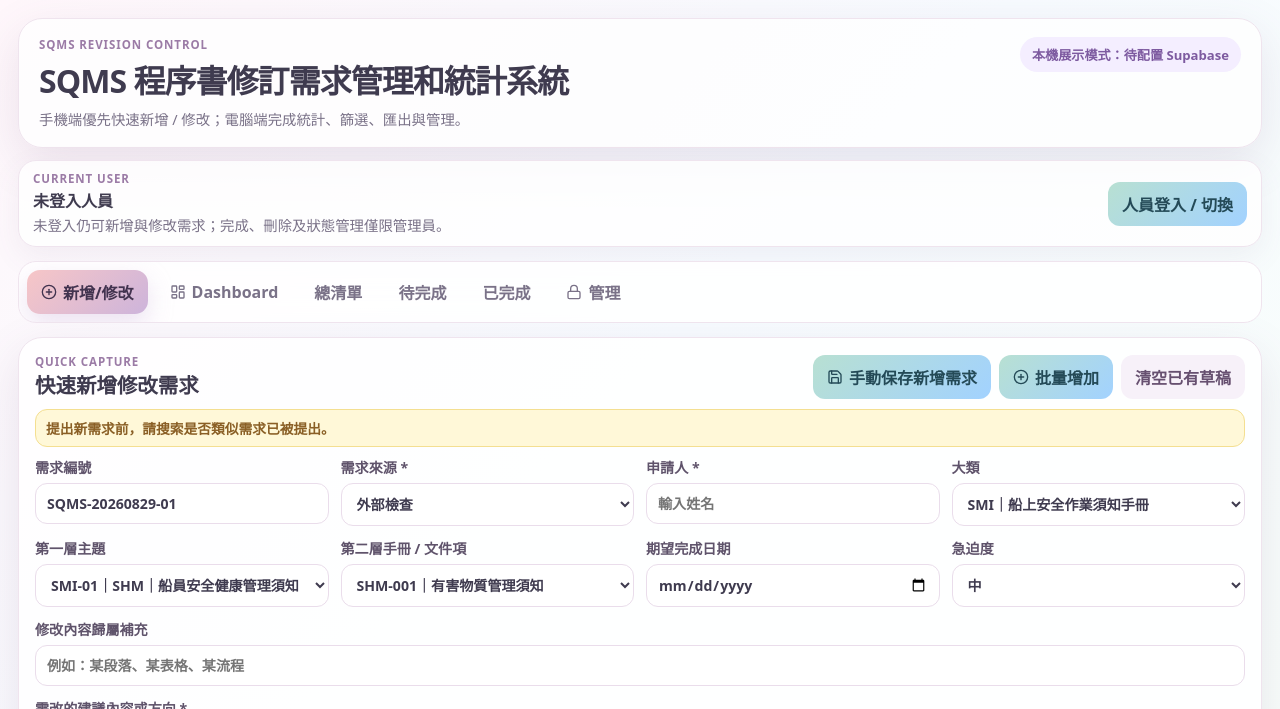
it: request manual save flow › shows matching manual-save buttons above and below the form and saves from the upper button
The width and height of the screenshot is (1280, 709).
In the field labelled "申請人 *": (793, 504) [646, 483, 940, 524], type "測試人員"
(page scrolled)
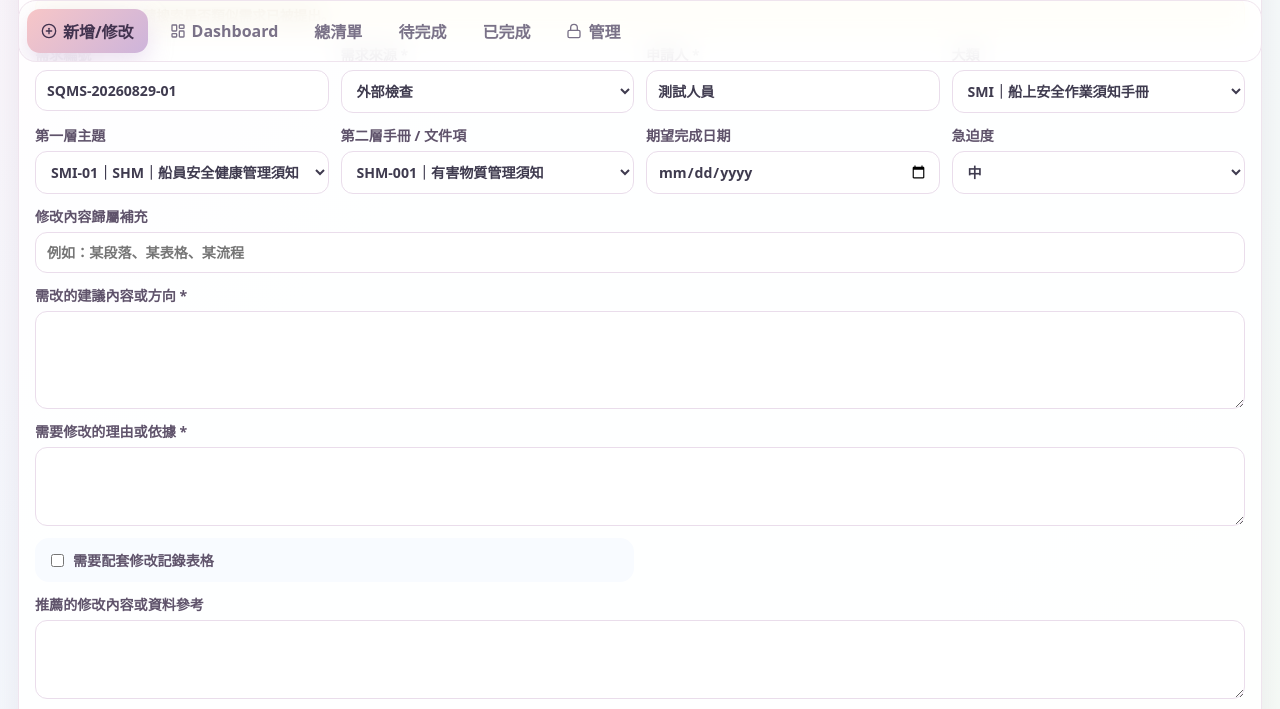
In the text box labelled "需改的建議內容或方向 *": (640, 360) [35, 311, 1245, 409], type "測試手動保存"
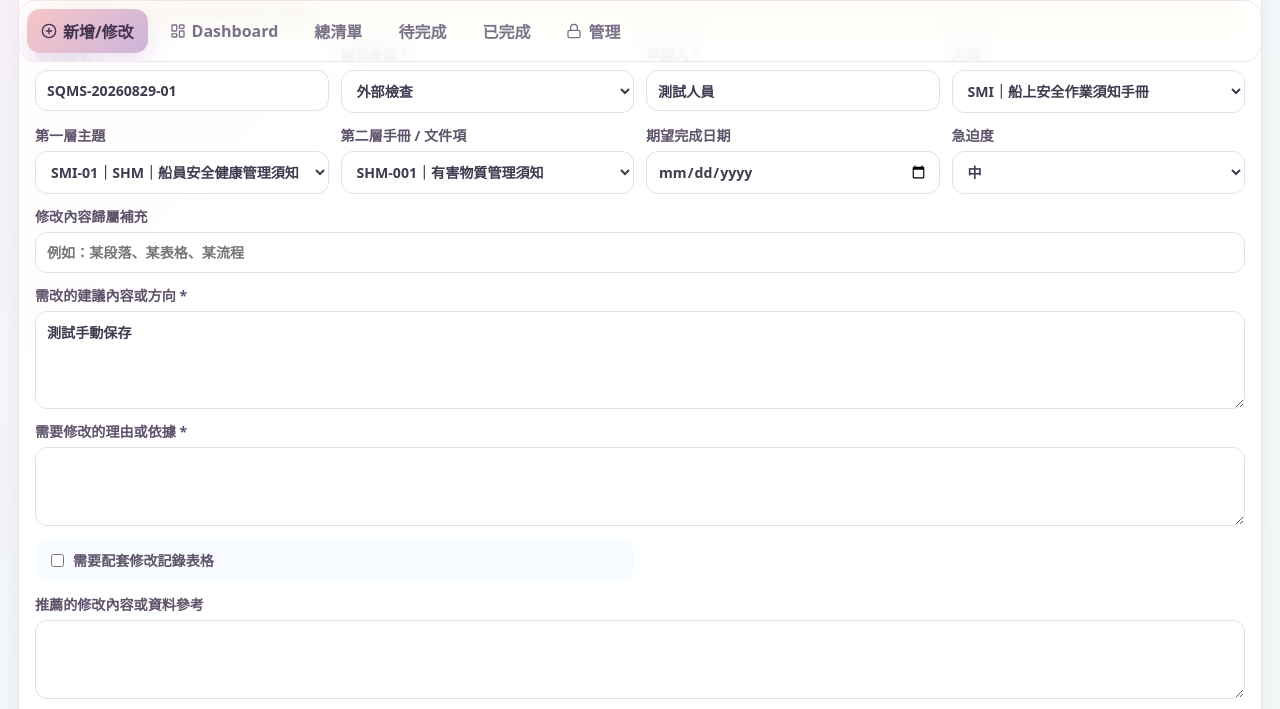
In the text box labelled "需要修改的理由或依據 *": (640, 486) [35, 447, 1245, 526], type "確認保存提示"
(page scrolled)
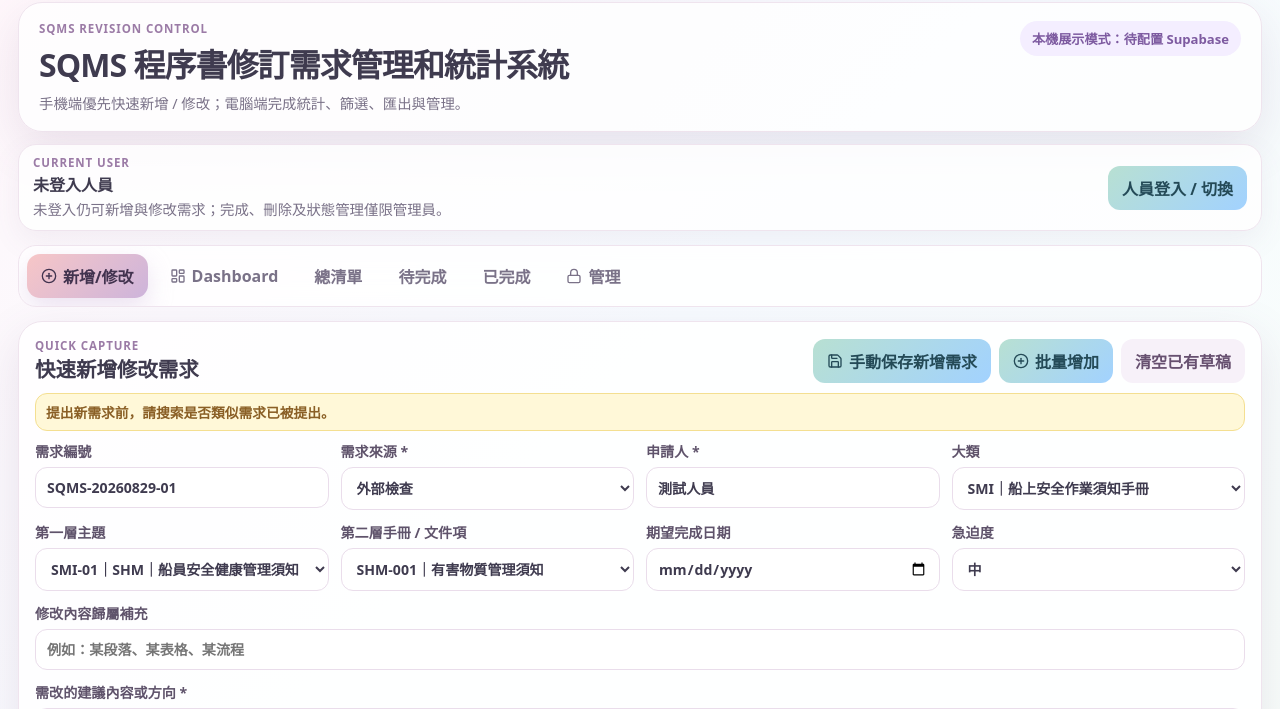
Click the button "手動保存新增需求": (902, 360) [813, 338, 991, 382]
(page scrolled)
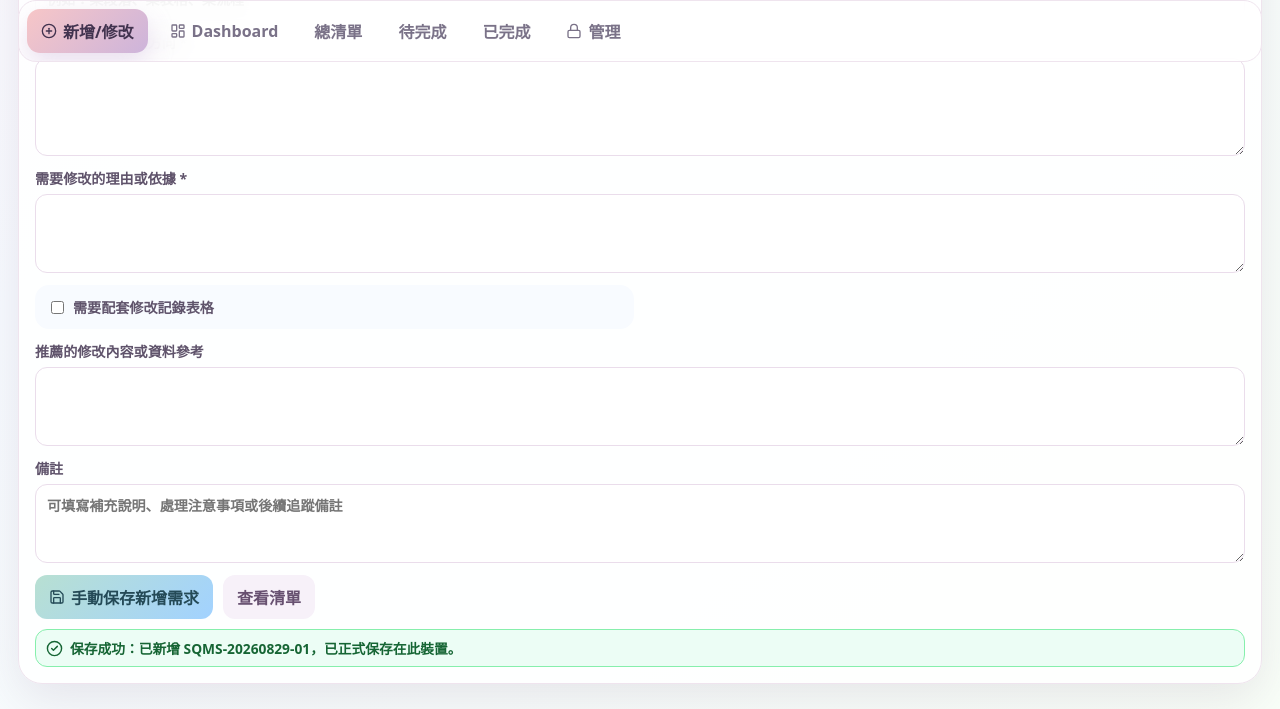
Result: the message shows "保存成功：已新增 SQMS-" at [70, 639, 461, 658]
Result: the message shows "已正式保存" at [70, 639, 461, 658]
